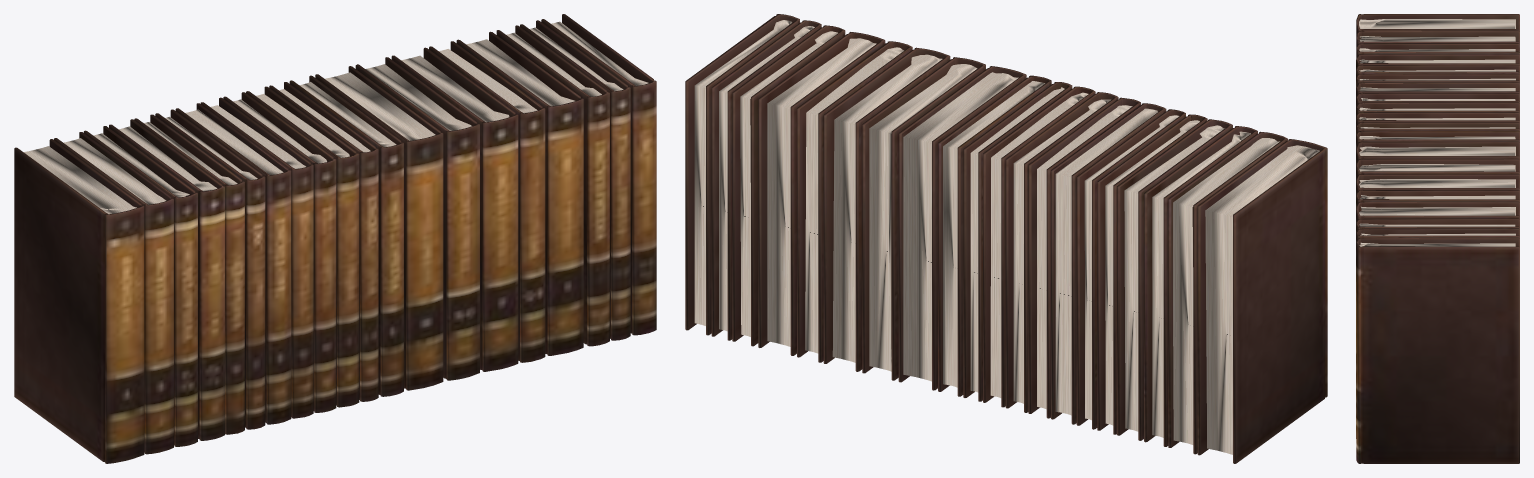
The model's file is book_encyclopedia_set_01.glb.
3 renders of one model, left to right at view 1: azimuth 30°, elevation 25°; view 2: azimuth 150°, elevation 25°; view 3: azimuth 270°, elevation 25°, orthographic. The views are drawn at different scales.
Visible parts, largest first — view 1: book_encyclopedia_set_01_book01, book_encyclopedia_set_01_book13, book_encyclopedia_set_01_book15, book_encyclopedia_set_01_book17, book_encyclopedia_set_01_book14, book_encyclopedia_set_01_book02, book_encyclopedia_set_01_book16, book_encyclopedia_set_01_book04, book_encyclopedia_set_01_book18, book_encyclopedia_set_01_book20, book_encyclopedia_set_01_book07, book_encyclopedia_set_01_book12 (+8 smaller); view 2: book_encyclopedia_set_01_book01, book_encyclopedia_set_01_book13, book_encyclopedia_set_01_book15, book_encyclopedia_set_01_book17, book_encyclopedia_set_01_book14, book_encyclopedia_set_01_book02, book_encyclopedia_set_01_book04, book_encyclopedia_set_01_book16, book_encyclopedia_set_01_book18, book_encyclopedia_set_01_book20, book_encyclopedia_set_01_book07, book_encyclopedia_set_01_book12 (+8 smaller); view 3: book_encyclopedia_set_01_book20, book_encyclopedia_set_01_book17, book_encyclopedia_set_01_book13, book_encyclopedia_set_01_book01, book_encyclopedia_set_01_book15, book_encyclopedia_set_01_book14, book_encyclopedia_set_01_book02, book_encyclopedia_set_01_book16, book_encyclopedia_set_01_book03, book_encyclopedia_set_01_book18, book_encyclopedia_set_01_book12, book_encyclopedia_set_01_book04 (+8 smaller).
Boxes of the visible parts, box(x1,y1,x2,y2) form: book_encyclopedia_set_01_book01: box(14, 139, 144, 463); book_encyclopedia_set_01_book13: box(315, 66, 443, 390); book_encyclopedia_set_01_book15: box(391, 47, 518, 371); book_encyclopedia_set_01_book17: box(456, 31, 583, 355); book_encyclopedia_set_01_book14: box(355, 57, 479, 380); book_encyclopedia_set_01_book02: box(54, 132, 173, 454); book_encyclopedia_set_01_book16: box(429, 41, 545, 362); book_encyclopedia_set_01_book04: box(109, 119, 224, 440); book_encyclopedia_set_01_book18: box(496, 25, 609, 346); book_encyclopedia_set_01_book20: box(541, 14, 656, 335); book_encyclopedia_set_01_book07: box(175, 103, 291, 424); book_encyclopedia_set_01_book12: box(289, 75, 403, 396); book_encyclopedia_set_01_book01: box(1197, 139, 1327, 463); book_encyclopedia_set_01_book13: box(898, 66, 1026, 390); book_encyclopedia_set_01_book15: box(823, 47, 950, 371); book_encyclopedia_set_01_book17: box(758, 32, 885, 355); book_encyclopedia_set_01_book14: box(862, 57, 985, 380); book_encyclopedia_set_01_book02: box(1168, 131, 1287, 454); book_encyclopedia_set_01_book04: box(1117, 119, 1232, 440); book_encyclopedia_set_01_book16: box(797, 41, 912, 362); book_encyclopedia_set_01_book18: box(732, 25, 845, 346); book_encyclopedia_set_01_book20: box(685, 14, 799, 335); book_encyclopedia_set_01_book07: box(1051, 103, 1166, 424); book_encyclopedia_set_01_book12: box(938, 75, 1051, 396); book_encyclopedia_set_01_book20: box(1356, 238, 1519, 463); book_encyclopedia_set_01_book17: box(1356, 202, 1519, 399); book_encyclopedia_set_01_book13: box(1356, 142, 1519, 162); book_encyclopedia_set_01_book01: box(1356, 14, 1519, 35); book_encyclopedia_set_01_book15: box(1356, 174, 1519, 209); book_encyclopedia_set_01_book14: box(1356, 159, 1519, 181); book_encyclopedia_set_01_book02: box(1356, 30, 1519, 46); book_encyclopedia_set_01_book16: box(1356, 190, 1519, 206); book_encyclopedia_set_01_book03: box(1356, 43, 1519, 56); book_encyclopedia_set_01_book18: box(1356, 218, 1519, 438); book_encyclopedia_set_01_book12: box(1356, 131, 1519, 165); book_encyclopedia_set_01_book04: box(1356, 54, 1519, 87).
Bounding box in the file's own units: 0.5513 × 0.2374 × 0.1631.
2 materials, 2 textured.
